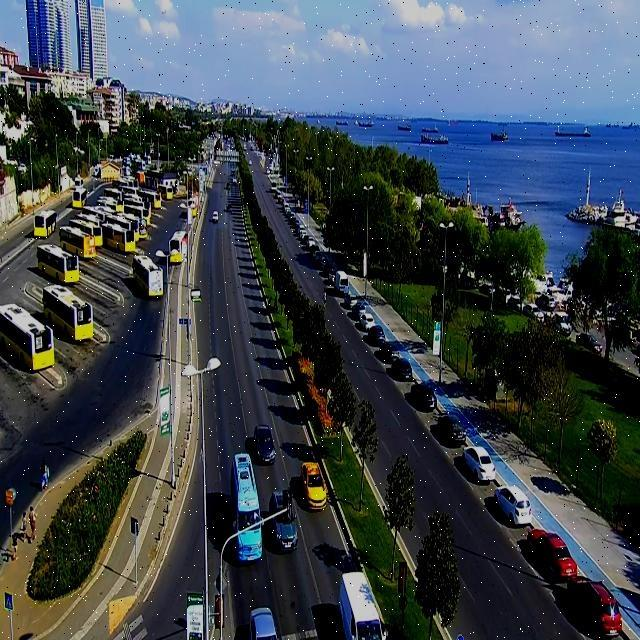Bus: (231, 454, 262, 562)
Car: (566, 578, 620, 636), (527, 528, 577, 579), (270, 491, 300, 552), (493, 485, 530, 525), (300, 462, 326, 509), (461, 447, 494, 482), (250, 606, 280, 640), (254, 423, 276, 464), (436, 414, 466, 442), (388, 356, 414, 381), (408, 383, 434, 408), (366, 325, 386, 344), (351, 299, 370, 318), (358, 313, 376, 333), (317, 254, 331, 269), (294, 218, 306, 235), (324, 272, 337, 287), (342, 291, 353, 307), (298, 230, 309, 244), (286, 208, 296, 223), (282, 204, 292, 218), (308, 239, 318, 251), (212, 210, 218, 222)
Van: (338, 573, 384, 639), (334, 270, 348, 293)
